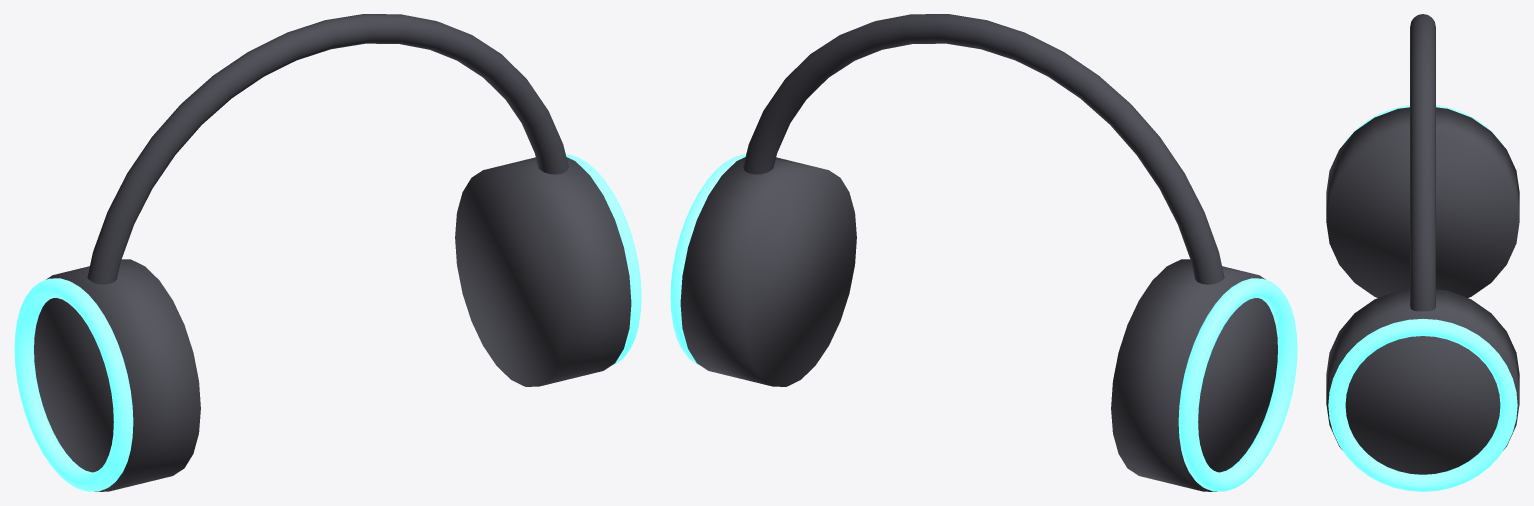
The model's file is headphones.glb.
3 renders of one model, left to right at view 1: azimuth 30°, elevation 25°; view 2: azimuth 150°, elevation 25°; view 3: azimuth 270°, elevation 25°, orthographic. The views are drawn at different scales.
Visible parts, largest first — view 1: headphones; view 2: headphones; view 3: headphones.
Boxes of the visible parts, x1,y1,x2,y2 form: headphones: [14, 14, 641, 491]; headphones: [670, 14, 1297, 491]; headphones: [1326, 14, 1519, 491].
Bounding box in the file's own units: 0.244 × 0.179 × 0.09.
